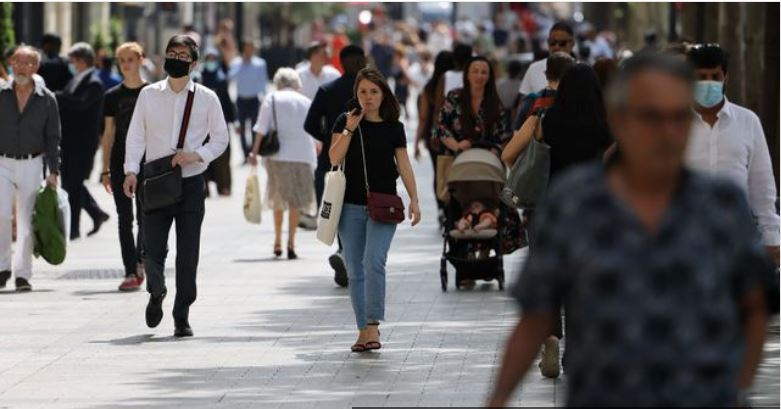with_mask: (159, 38, 194, 87), (698, 55, 725, 111)
without_mask: (352, 77, 384, 116), (8, 55, 40, 92), (464, 64, 493, 91), (117, 50, 142, 77)
